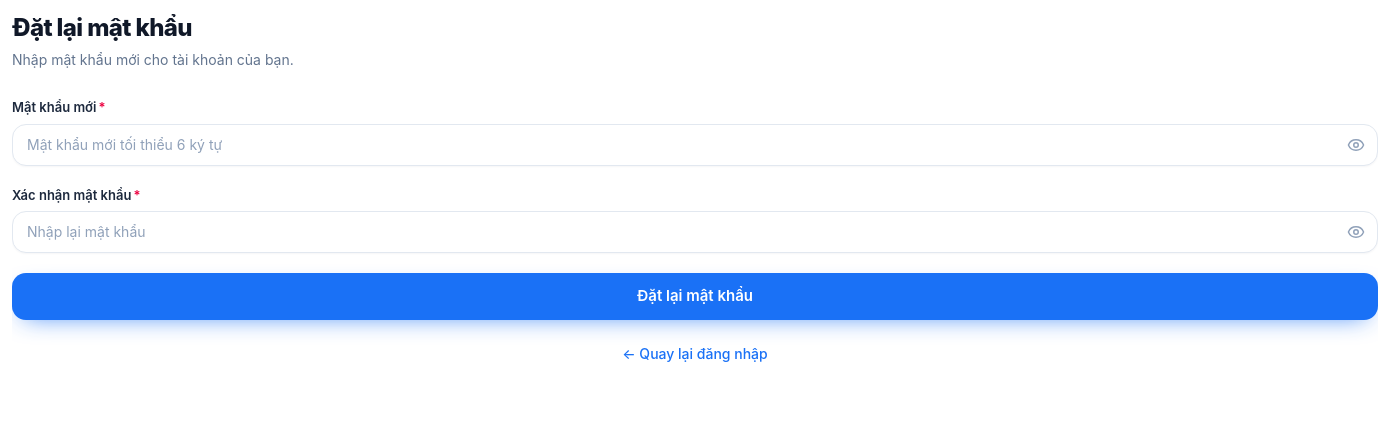
Test: ResetPassword › hợp lệ → gọi API với token từ URL + hiển thị thông báo thành công
The image size is (1390, 444).
Type "NewPass123" into the password field with placeholder "Mật khẩu mới tối thiểu 6 ký tự". click: (695, 144)
box: [12, 124, 1378, 166]
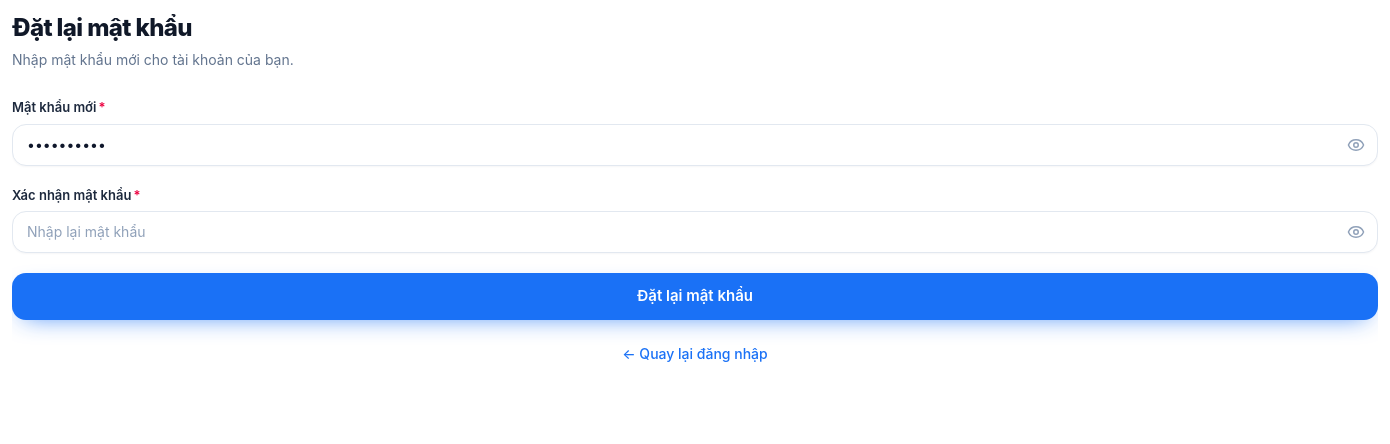
Type "NewPass123" into the password field with placeholder "Nhập lại mật khẩu". click: (695, 232)
box: [12, 211, 1378, 253]
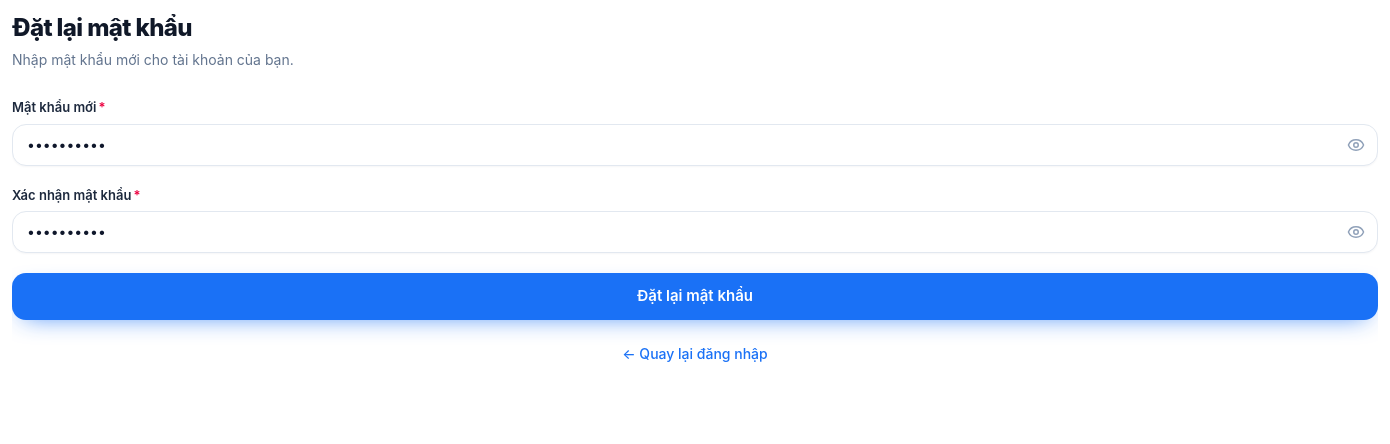
Click the button "Đặt lại mật khẩu". click: click(695, 296)
box: [12, 273, 1378, 320]
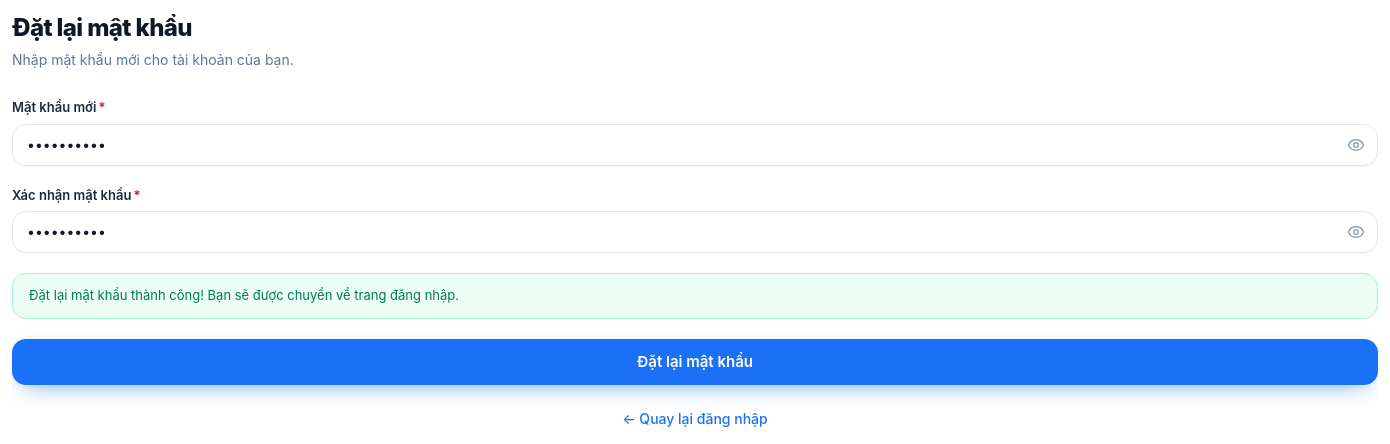
Result: the text "Đặt lại mật khẩu thành công" is shown at [29, 287, 459, 303]
